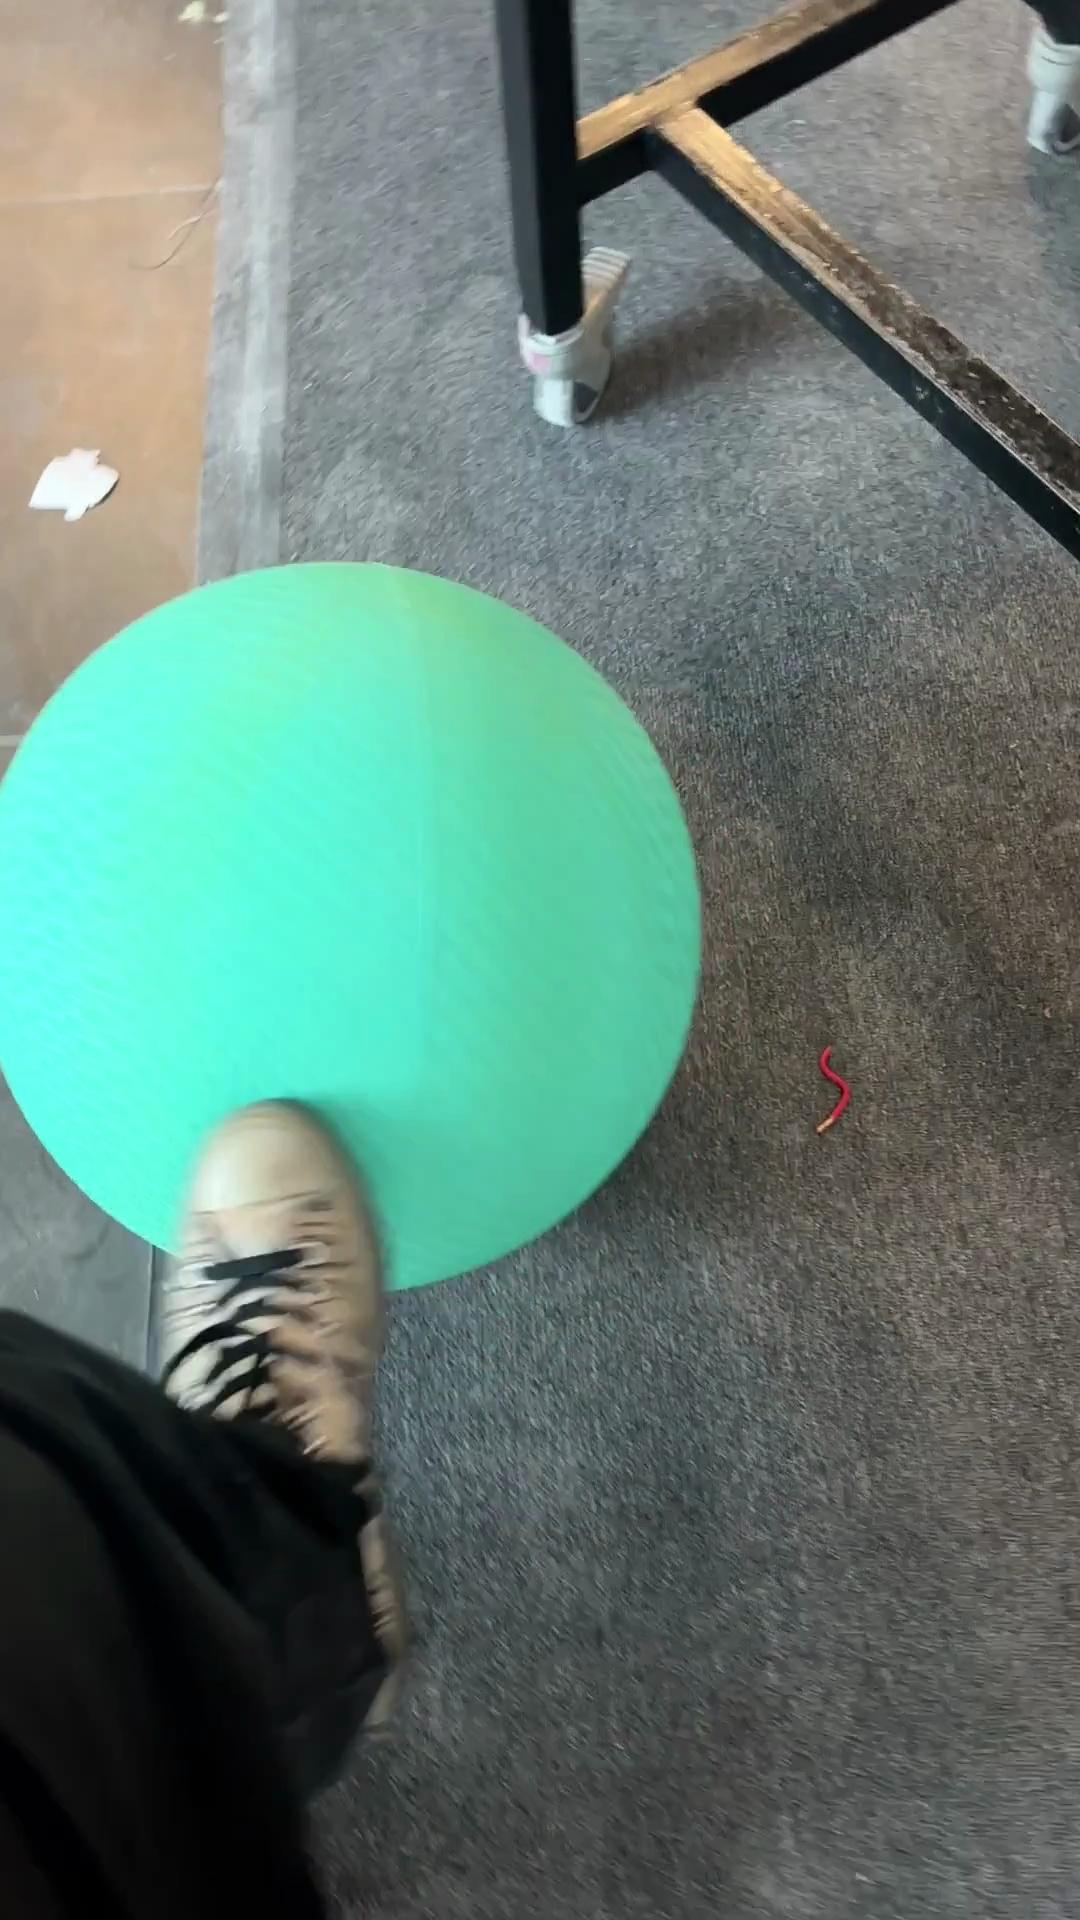ALGAE: (1, 556, 704, 1294)
